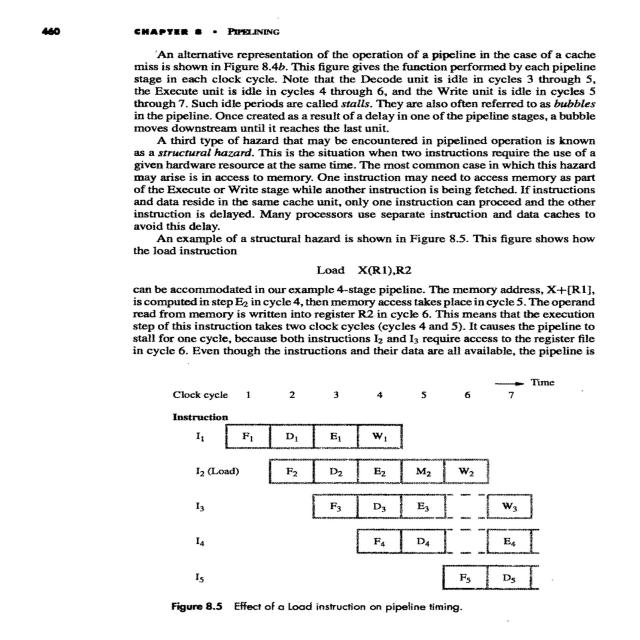diagram: (142, 372, 547, 627)
